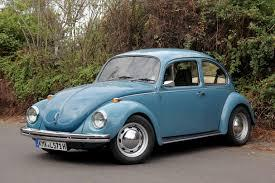volkswagen: (19, 46, 259, 167)
